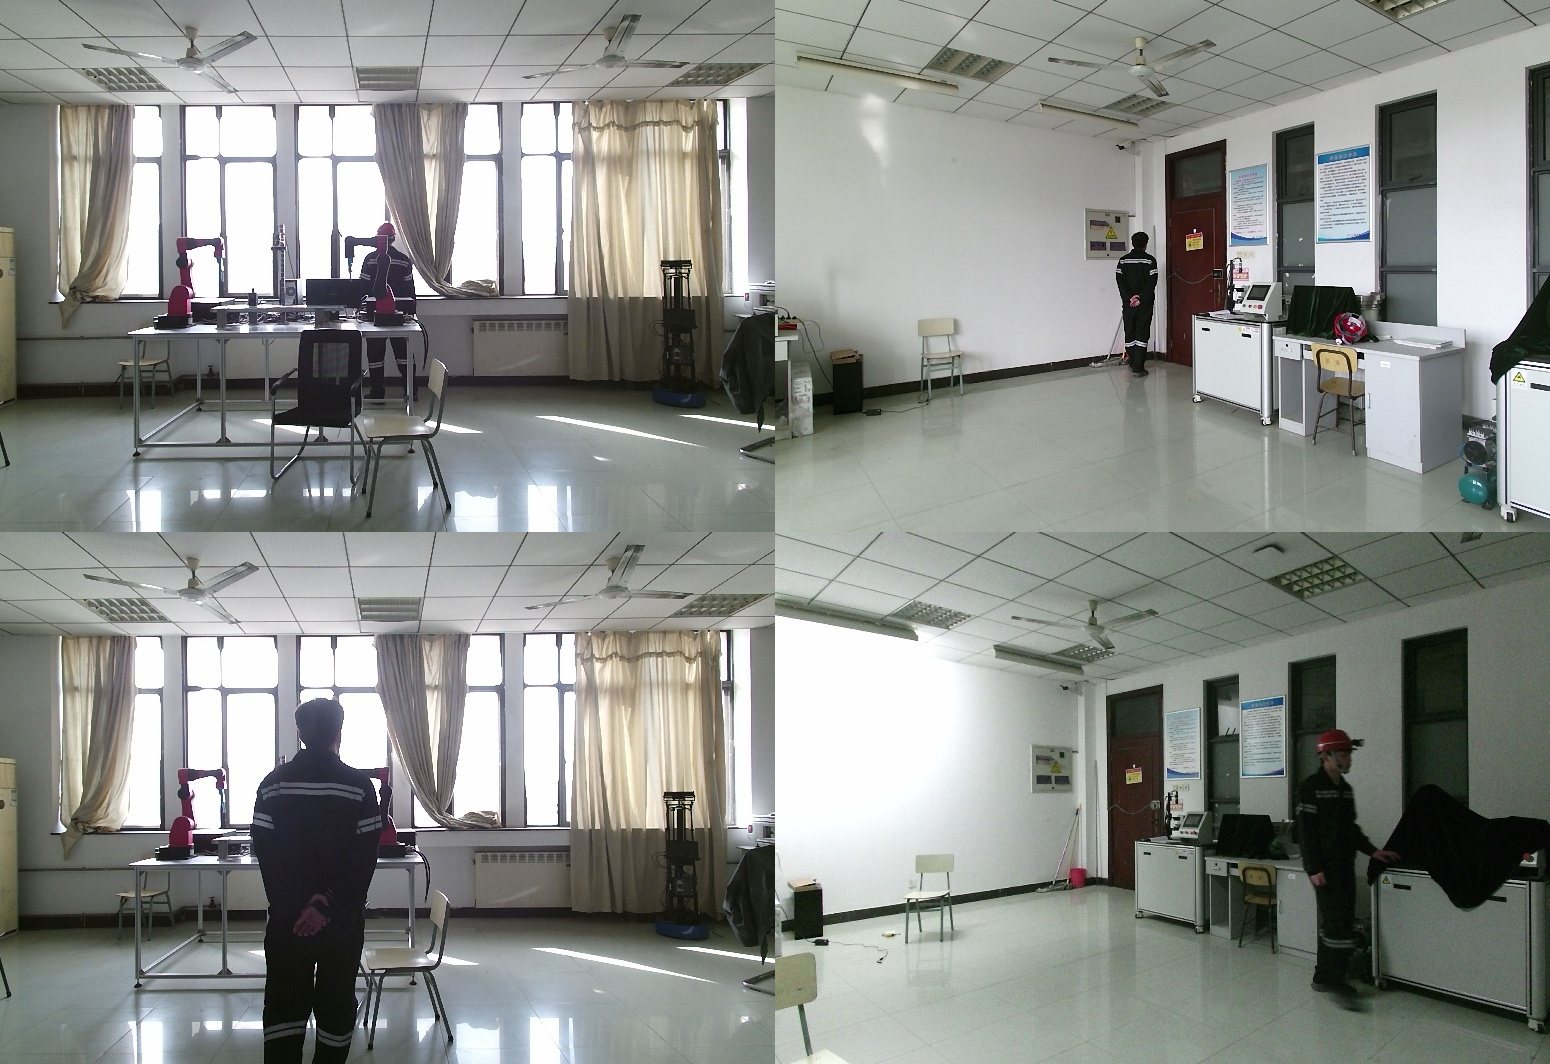person: (249, 699, 398, 1064), (1288, 728, 1400, 997), (353, 224, 417, 414), (1115, 233, 1165, 381)
